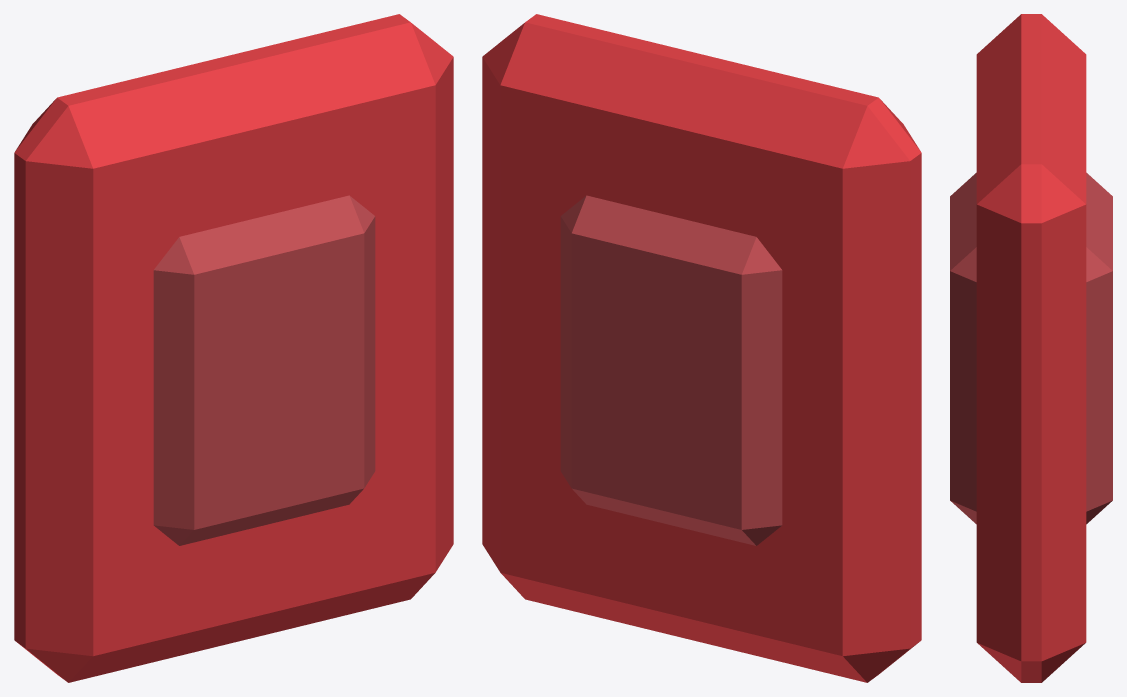
Rendered from Gem3.fbx.
The picture shows the model from 3 angles, left to right: view 1: azimuth 30°, elevation 25°; view 2: azimuth 150°, elevation 25°; view 3: azimuth 270°, elevation 25°; orthographic projection. The views are drawn at different scales.
Visible parts, largest first — view 1: Gem3a, Gem3b; view 2: Gem3a, Gem3b; view 3: Gem3a, Gem3b.
Part boxes in pixels (bbox=[...]): Gem3a: bbox=[14, 14, 453, 682]; Gem3b: bbox=[153, 195, 375, 545]; Gem3a: bbox=[482, 14, 921, 682]; Gem3b: bbox=[560, 195, 782, 545]; Gem3a: bbox=[976, 14, 1086, 682]; Gem3b: bbox=[950, 172, 1112, 524].
Bounding box in the file's own units: 99.92 × 129 × 36.65.
